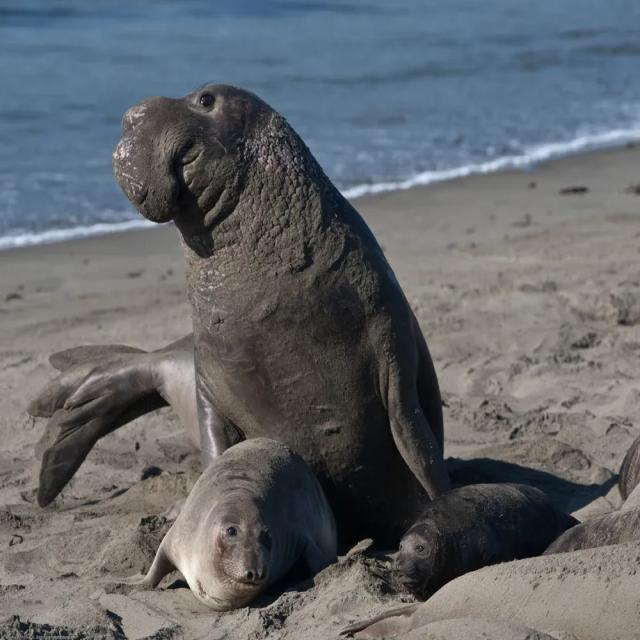walrus: (72, 57, 490, 393)
